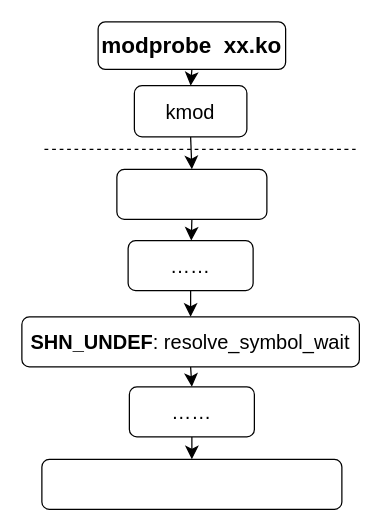
This 381x531 diagram has some shape labels left out. Each missing label, with the centre of its shape:
find_export_symbol_in_section: point (191, 483)
finit_module: point (191, 193)
